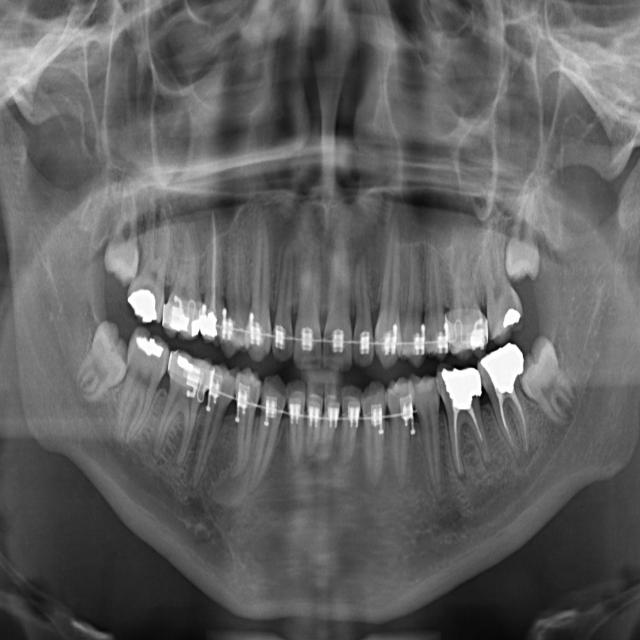AmalgamRestoration: (479, 337, 524, 396), (441, 364, 482, 423), (128, 280, 157, 328), (175, 342, 202, 386), (134, 329, 165, 362), (173, 304, 198, 342), (502, 302, 521, 336), (202, 312, 222, 342)
DentalCaries: (494, 274, 514, 321), (428, 386, 443, 422)
ImpactedTooth: (522, 328, 576, 467), (103, 146, 143, 291), (65, 318, 133, 402), (504, 162, 546, 288)
Overhang: (514, 353, 530, 375), (472, 380, 484, 402)
RootCanalTreatment: (198, 168, 228, 312), (446, 396, 488, 493), (496, 362, 533, 470)
periapicalLesion: (506, 428, 534, 482), (477, 443, 499, 494), (449, 450, 472, 498)
